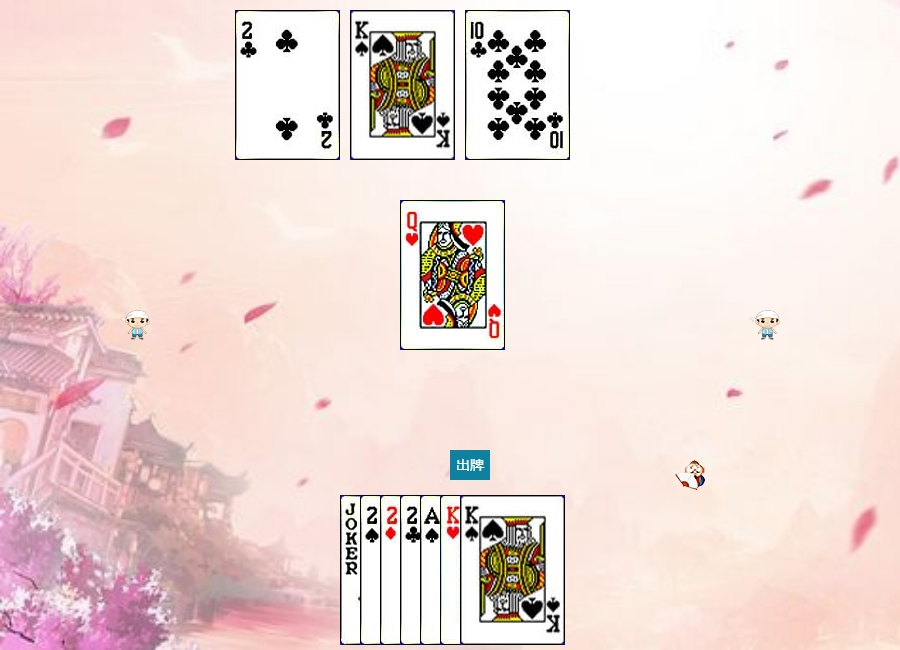10~2: (465, 10, 570, 160)
12~3: (400, 200, 505, 350)
13~3: (440, 495, 545, 645)
13~4: (350, 10, 455, 160), (460, 495, 565, 645)
14~4: (420, 495, 525, 645)
15~1: (380, 495, 485, 645)
15~2: (235, 10, 340, 160), (400, 495, 505, 645)
15~4: (360, 495, 465, 645)
17~3: (340, 495, 445, 645)
